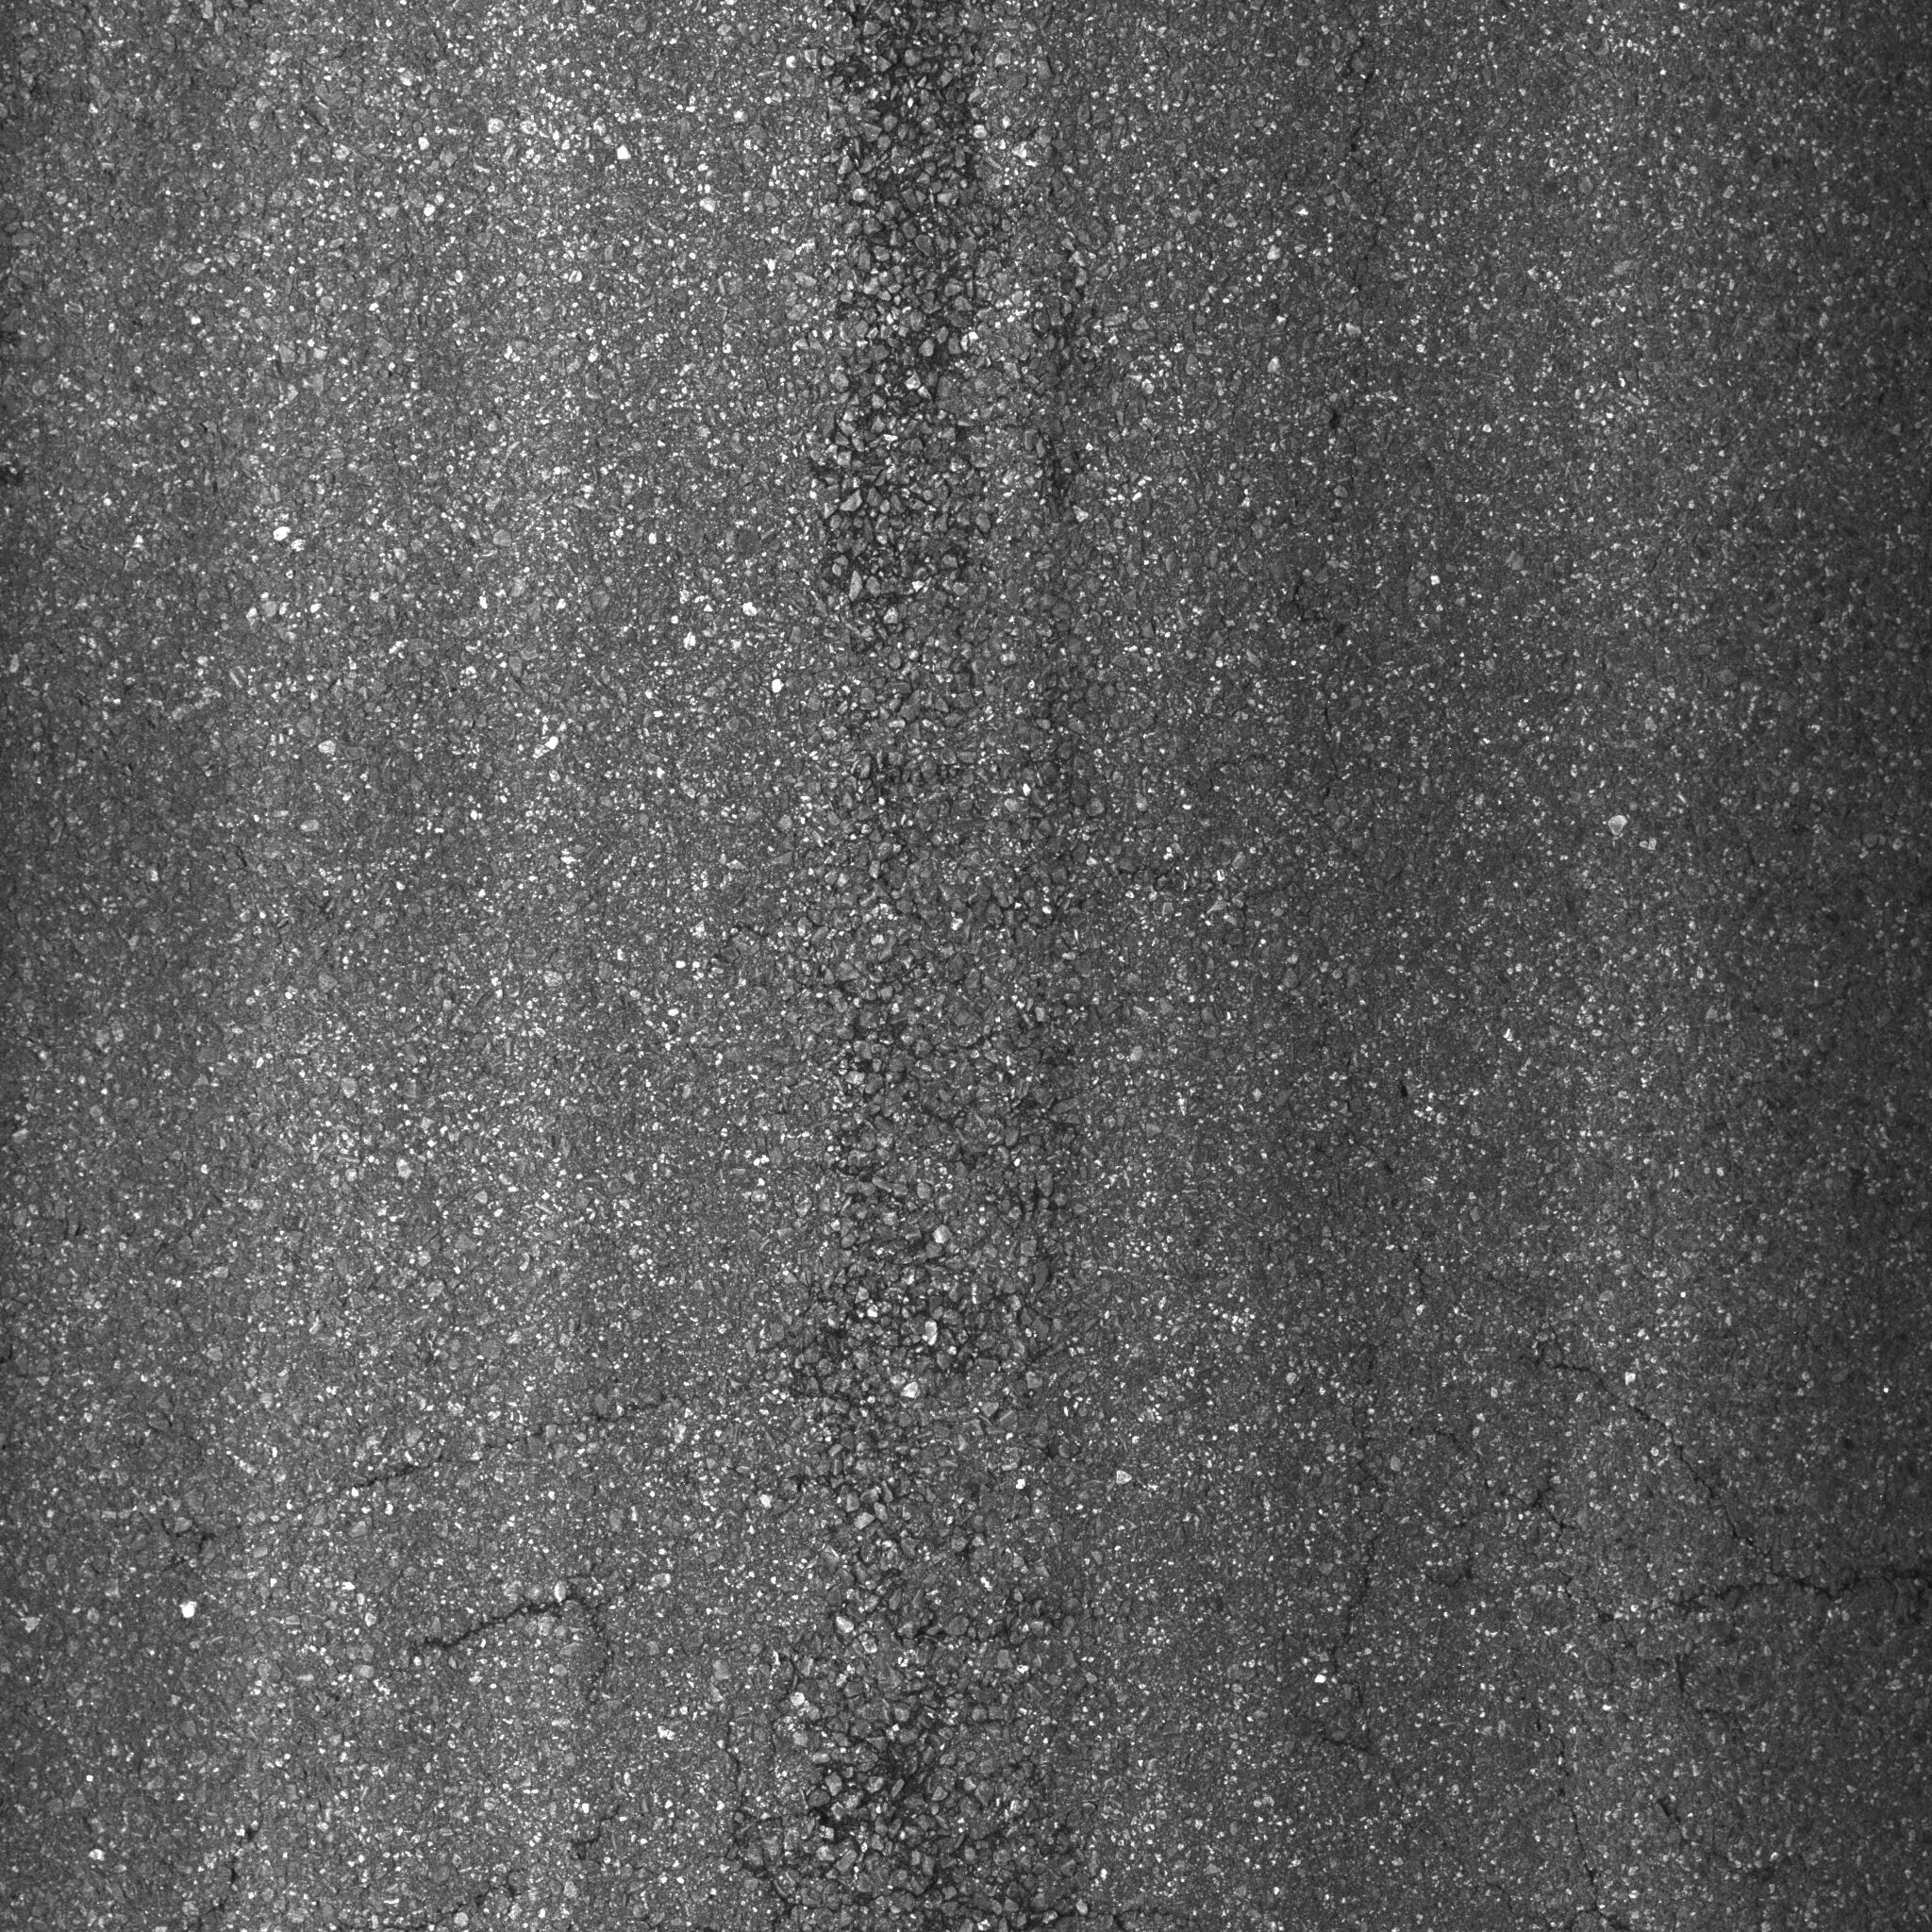transeverse: (163, 1366, 832, 1548), (1532, 1336, 1932, 1628), (403, 1571, 655, 1695)
